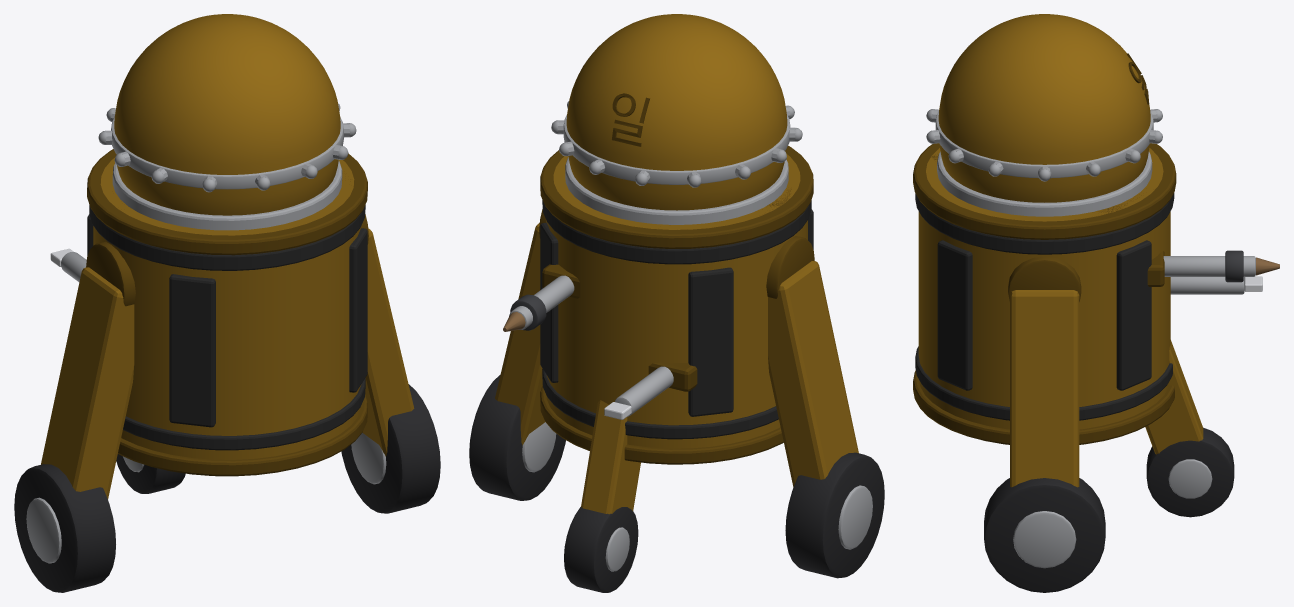
The picture shows the model from 3 angles, left to right: view 1: azimuth 30°, elevation 25°; view 2: azimuth 150°, elevation 25°; view 3: azimuth 270°, elevation 25°; orthographic projection. The views are drawn at different scales.
Parts seen in each view (by area): view 1: IL_Body, CORE_il_Shell, IL_Leg_P, IL_Wheel_P, IL_Wheel_L, IL_Leg_L, IL_Wheel_C, IL_ArmUSB; view 2: IL_Body, CORE_il_Shell, IL_Leg_P, IL_Wheel_P, IL_Wheel_L, IL_Wheel_C, IL_Leg_L, IL_Leg_C, IL_ArmSolder, IL_ArmUSB, IL_ArmHousing, CORE_il_Name; view 3: IL_Body, CORE_il_Shell, IL_Leg_L, IL_Wheel_L, IL_Wheel_C, IL_Leg_C, IL_ArmSolder, IL_ArmUSB, IL_ArmHousing.
Boxes of the visible parts, <box> form: IL_Body: <box>87,149,367,476</box>; CORE_il_Shell: <box>98,14,356,215</box>; IL_Leg_P: <box>41,241,135,499</box>; IL_Wheel_P: <box>14,464,115,592</box>; IL_Wheel_L: <box>341,384,440,513</box>; IL_Leg_L: <box>361,214,414,456</box>; IL_Wheel_C: <box>116,454,185,493</box>; IL_ArmUSB: <box>50,248,86,281</box>; IL_Body: <box>540,145,813,464</box>; CORE_il_Shell: <box>551,14,802,210</box>; IL_Leg_P: <box>766,236,858,487</box>; IL_Wheel_P: <box>785,452,884,578</box>; IL_Wheel_L: <box>469,374,565,500</box>; IL_Wheel_C: <box>564,507,638,592</box>; IL_Leg_L: <box>495,209,545,445</box>; IL_Leg_C: <box>581,400,640,514</box>; IL_ArmSolder: <box>503,275,574,331</box>; IL_ArmUSB: <box>604,366,673,419</box>; IL_ArmHousing: <box>542,264,697,391</box>; CORE_il_Name: <box>612,93,649,146</box>; IL_Body: <box>913,143,1176,444</box>; CORE_il_Shell: <box>926,14,1162,202</box>; IL_Leg_L: <box>1008,256,1081,487</box>; IL_Wheel_L: <box>984,478,1105,592</box>; IL_Wheel_C: <box>1146,427,1234,517</box>; IL_Leg_C: <box>1145,340,1203,454</box>; IL_ArmSolder: <box>1163,250,1279,282</box>; IL_ArmUSB: <box>1170,276,1262,294</box>; IL_ArmHousing: <box>1147,251,1164,286</box>.
Bounding box in the file's own units: 0.5667 × 0.76 × 0.5184.
